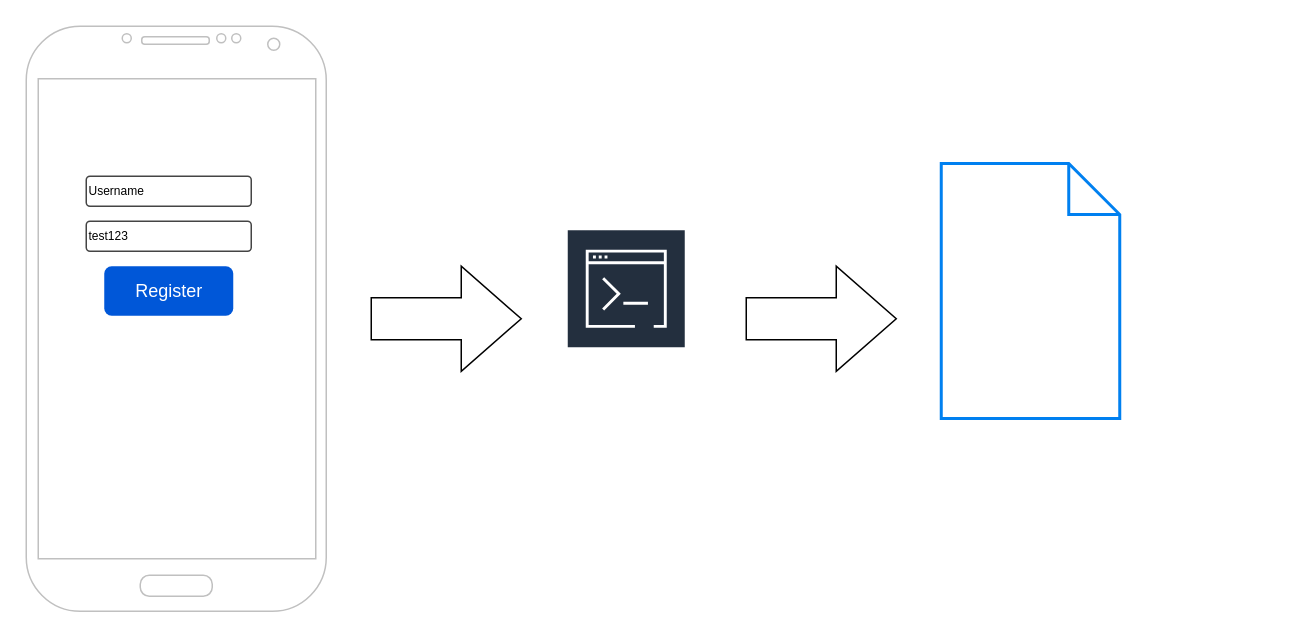
Some shapes in this 1311 by 638 pixel diagram are drawn without their labels. Each missing label, with the centre of its shape:
"bcrypt" goes at (x=625, y=318).
"da39a3ee5e6b4b0d3255bfef95601890afd80709" goes at (x=1029, y=290).
